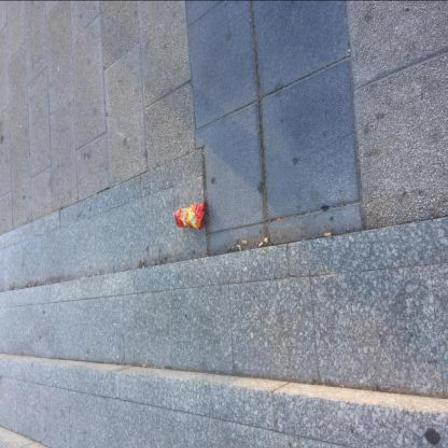Cigarette: (327, 233, 333, 237), (243, 240, 249, 244), (261, 243, 265, 248), (144, 365, 148, 368), (21, 126, 24, 129), (89, 353, 90, 358), (36, 281, 37, 285), (31, 286, 32, 287)
Plastic bag - wrapper: (175, 201, 208, 231)
